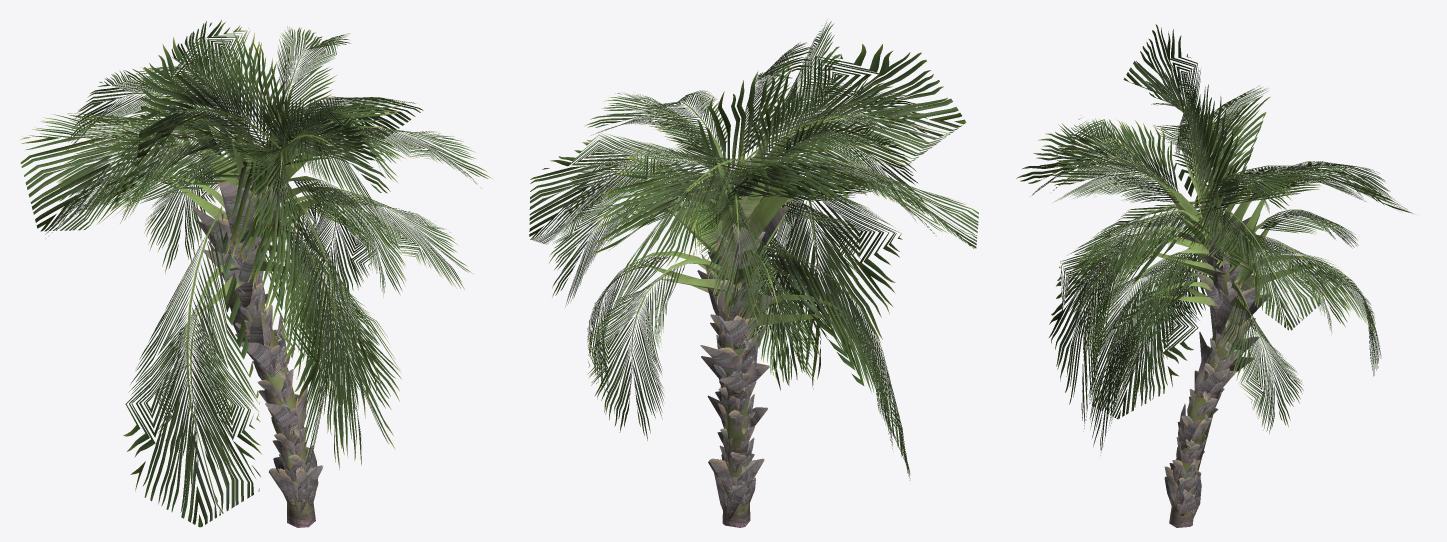
Rendered from palma_areca.glb.
3 views of the same model, side by side, from view 1: azimuth 30°, elevation 25°; view 2: azimuth 150°, elevation 25°; view 3: azimuth 270°, elevation 25° (orthographic). The views are drawn at different scales.
Visible parts, largest first — view 1: lejos, cerca; view 2: lejos, cerca; view 3: cerca, lejos.
Boxes of the visible parts, x1,y1,x2,y2 form: lejos: [19, 20, 423, 527]; cerca: [45, 26, 493, 527]; lejos: [529, 44, 978, 521]; cerca: [549, 19, 948, 527]; cerca: [1016, 63, 1390, 527]; lejos: [1049, 24, 1418, 518].
Bounding box in the file's own units: 3.18 × 3.76 × 3.28.
Materials: 2 (2 with a texture image).
